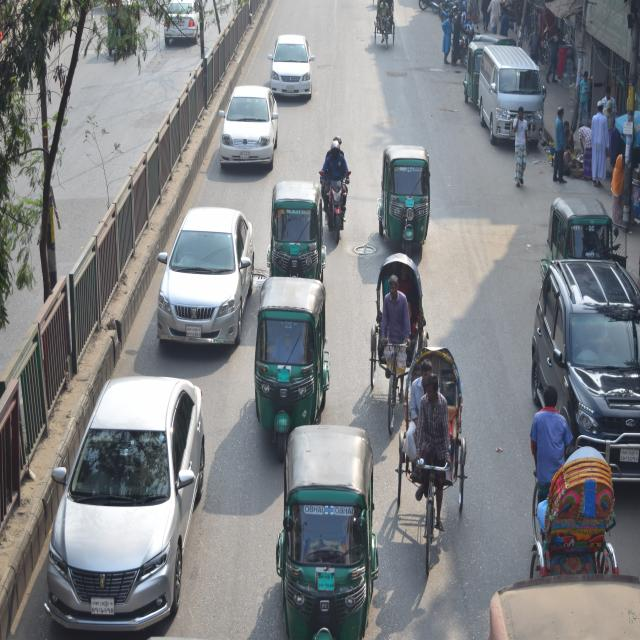car: (52, 374, 206, 632), (530, 249, 640, 500), (158, 193, 254, 363), (219, 74, 280, 168), (271, 30, 312, 108)
microbus: (478, 46, 544, 147)
motorbike: (320, 134, 350, 236)
